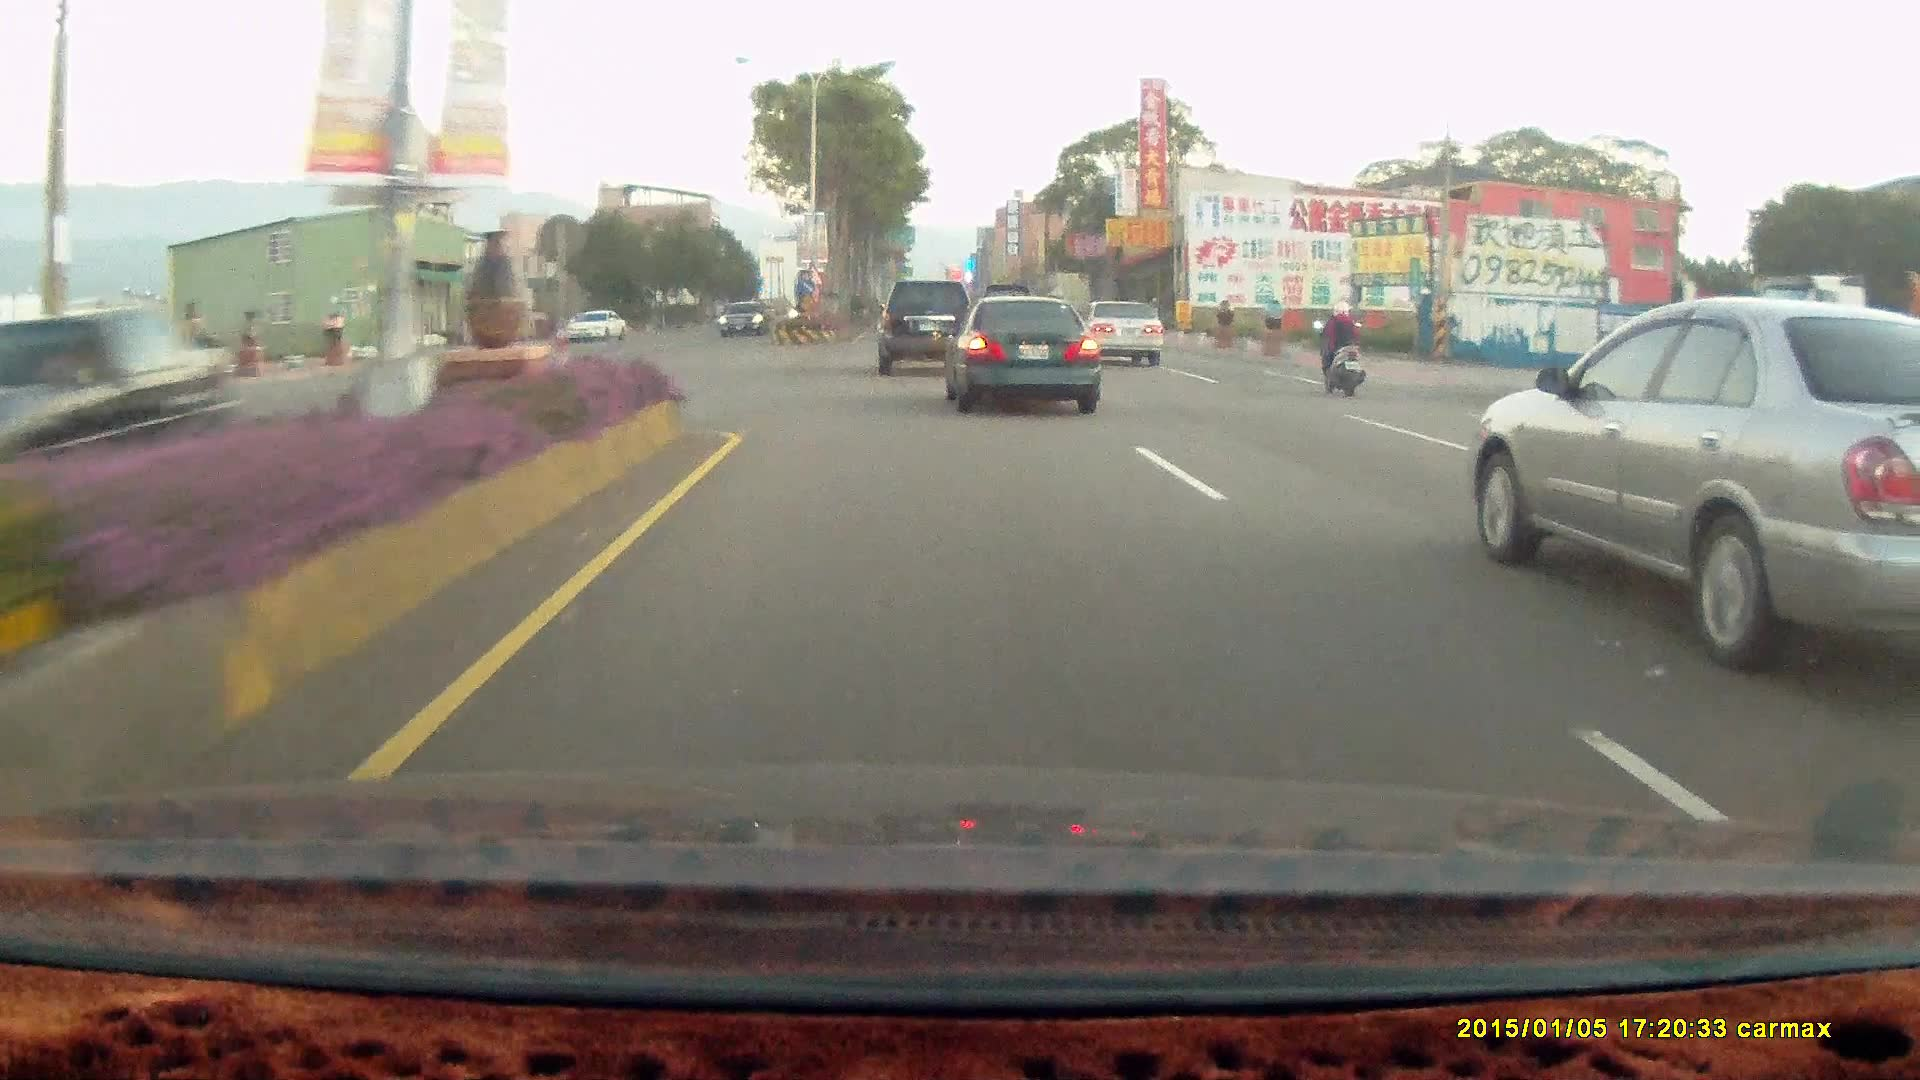rider: (1306, 291, 1376, 404), (1310, 298, 1366, 396)
vehicle: (1463, 303, 1920, 672), (0, 291, 237, 511), (933, 292, 1094, 410), (952, 296, 1110, 416), (880, 276, 981, 374), (876, 281, 974, 377), (1078, 298, 1165, 370), (1078, 296, 1164, 366), (566, 308, 631, 345), (717, 299, 771, 341), (564, 308, 627, 342), (716, 299, 769, 336)
